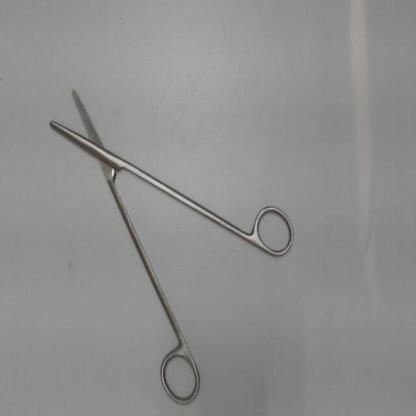9 Metzenbaum Scissors: (44, 82, 302, 415)
